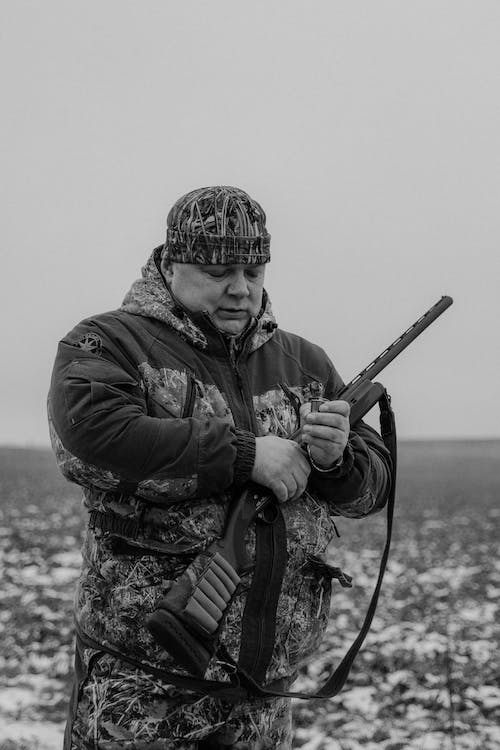gun: (142, 289, 457, 681)
